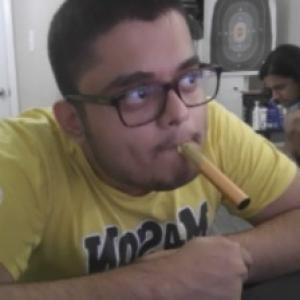Golden-E-Ciggirate: (181, 139, 251, 212)
